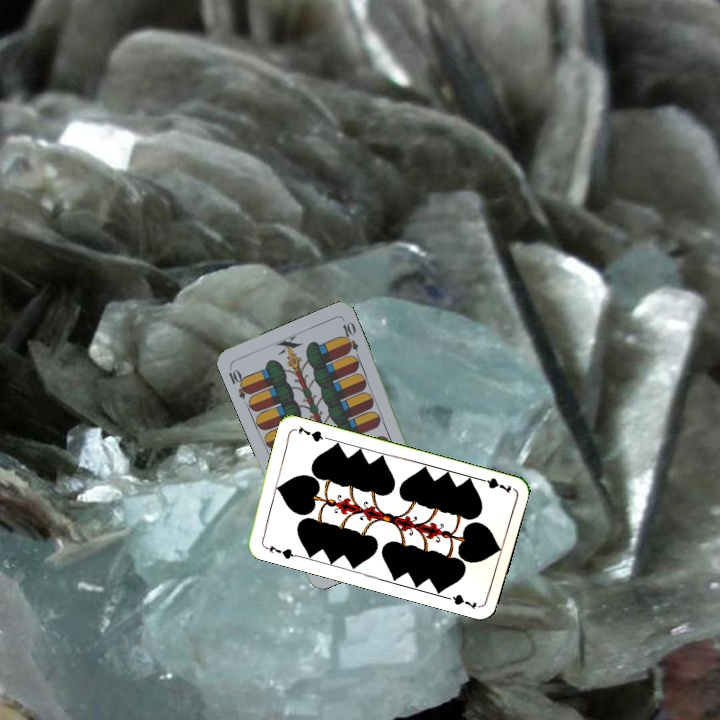E10: (224, 363, 253, 402)
G7: (474, 474, 514, 496), (260, 541, 300, 562)
